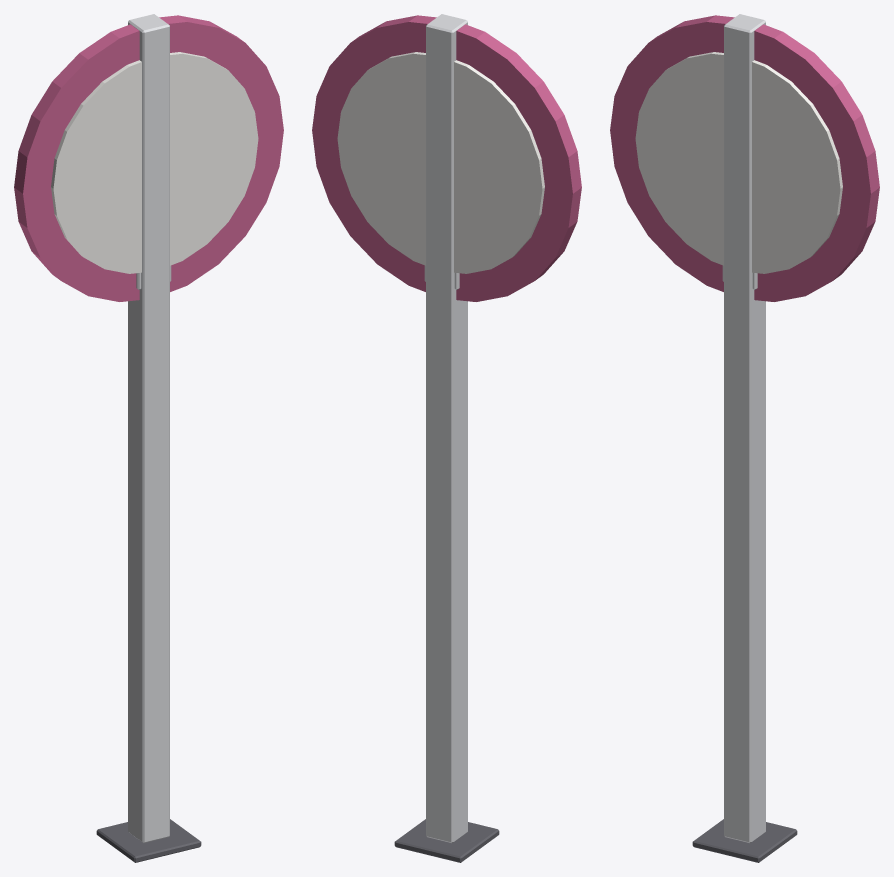
File: motorway-services-and-truck-park-speed-limit-sign-404e9489__35972.glb
The picture shows the model from 3 angles, left to right: view 1: azimuth 30°, elevation 25°; view 2: azimuth 150°, elevation 25°; view 3: azimuth 330°, elevation 25°; orthographic projection.
Parts seen in each view (by area): view 1: speed-limit-sign; view 2: speed-limit-sign; view 3: speed-limit-sign.
Boxes of the visible parts, x1,y1,x2,y2 form: speed-limit-sign: (14, 14, 283, 862); speed-limit-sign: (312, 14, 581, 862); speed-limit-sign: (610, 14, 879, 862).
Bounding box in the file's own units: 0.84 × 2.52 × 0.216.
